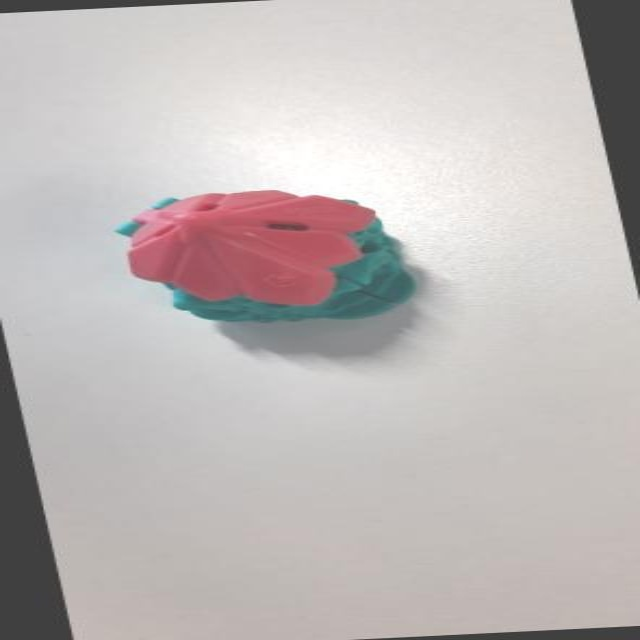House: (104, 174, 438, 338)
